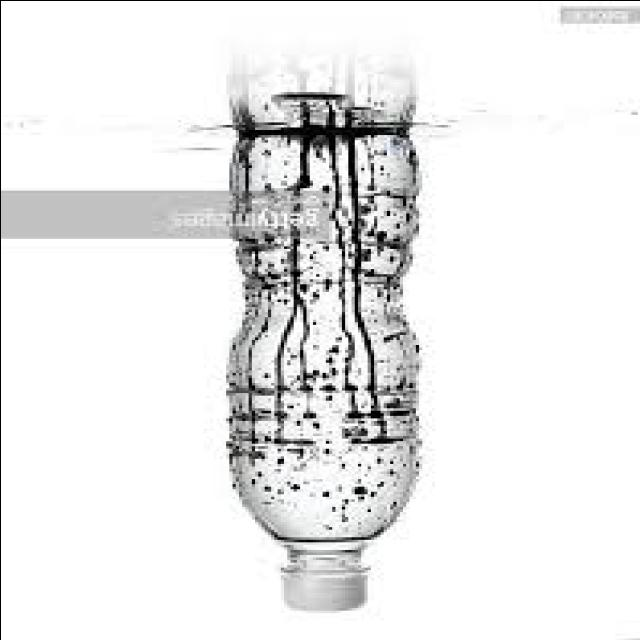bottle: (227, 128, 417, 610)
